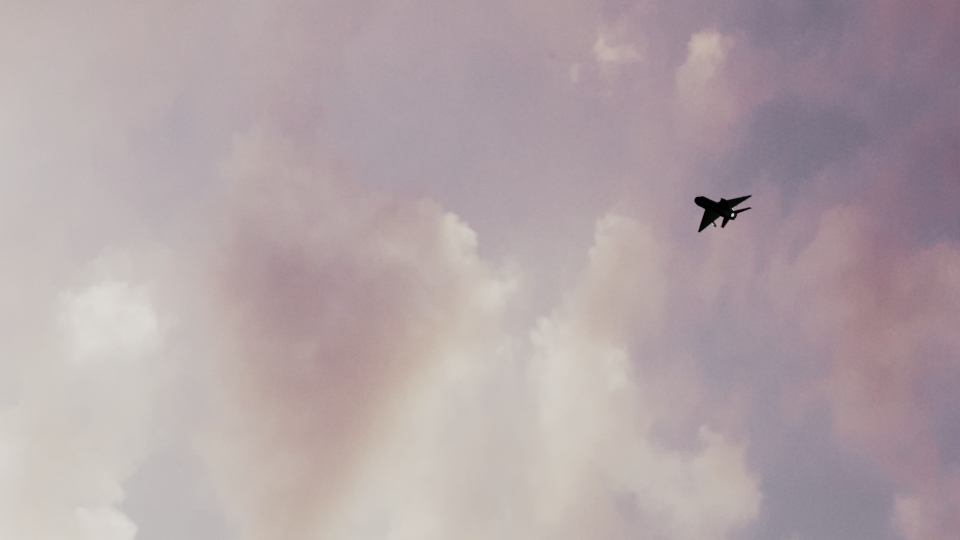plane: (691, 191, 753, 233)
